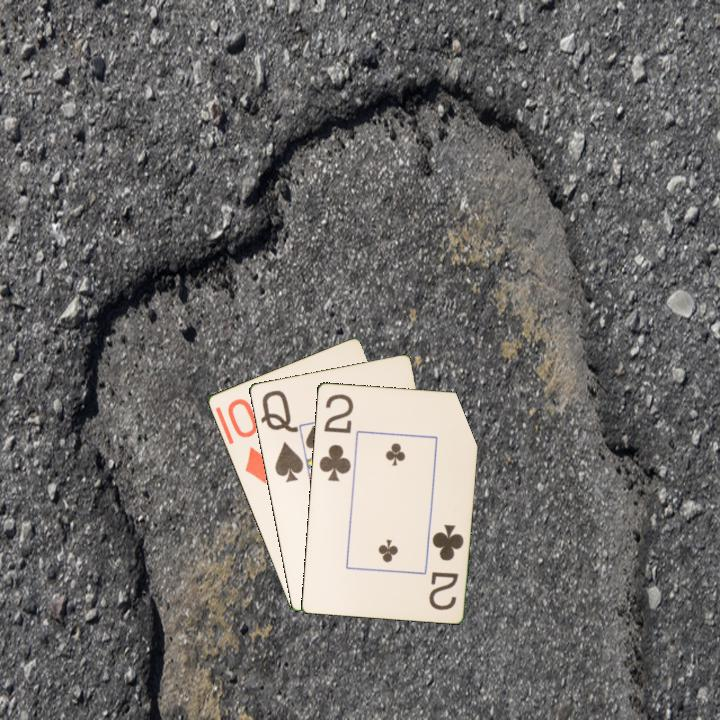10d: (223, 395, 274, 487)
2c: (315, 390, 356, 484), (425, 521, 466, 613)
Qs: (257, 386, 306, 485)
